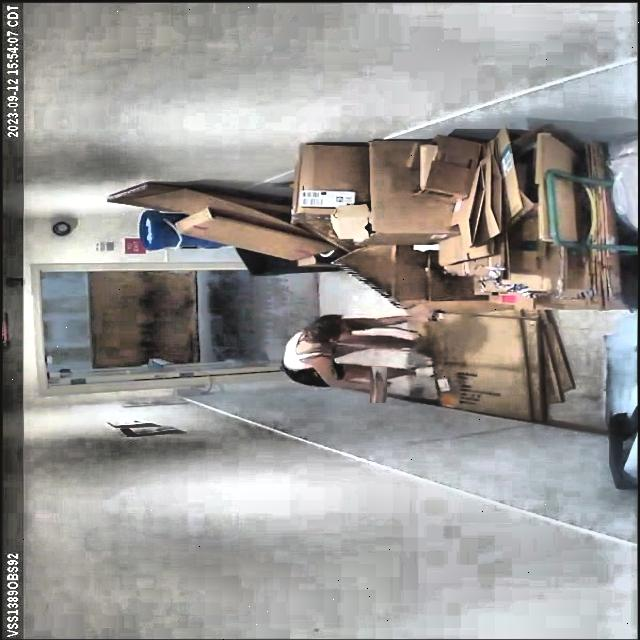not-gloved: (364, 370, 392, 398), (403, 310, 441, 323)
